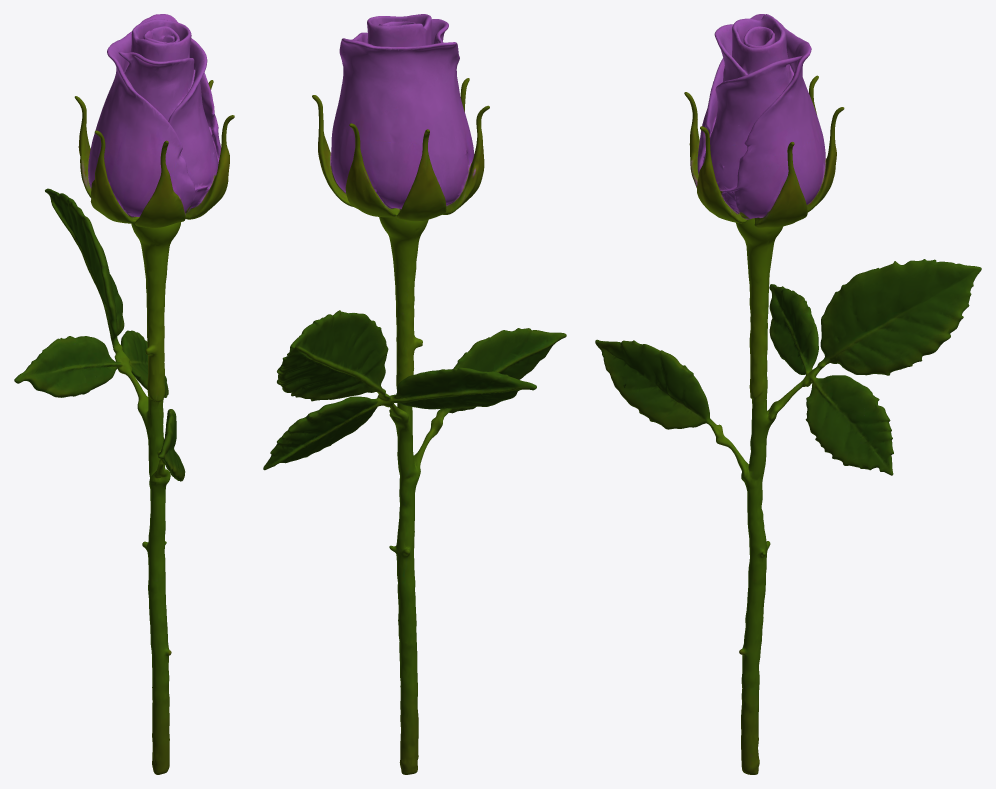
File: Purple Rose small.glb
The picture shows the model from 3 angles, left to right: view 1: azimuth 30°, elevation 25°; view 2: azimuth 150°, elevation 25°; view 3: azimuth 270°, elevation 25°; orthographic projection. The views are drawn at different scales.
Visible parts, largest first — view 1: tripo_node_011450fd-13d8-4f86-b8c6-d14b6cbdf23f; view 2: tripo_node_011450fd-13d8-4f86-b8c6-d14b6cbdf23f; view 3: tripo_node_011450fd-13d8-4f86-b8c6-d14b6cbdf23f.
Part boxes in pixels (x1=…): tripo_node_011450fd-13d8-4f86-b8c6-d14b6cbdf23f: x1=14, y1=14, x2=234, y2=774; tripo_node_011450fd-13d8-4f86-b8c6-d14b6cbdf23f: x1=263, y1=14, x2=566, y2=774; tripo_node_011450fd-13d8-4f86-b8c6-d14b6cbdf23f: x1=595, y1=14, x2=981, y2=774.
Bounding box in the file's own units: 0.2948 × 1 × 0.4668.
1 material, 1 textured.
